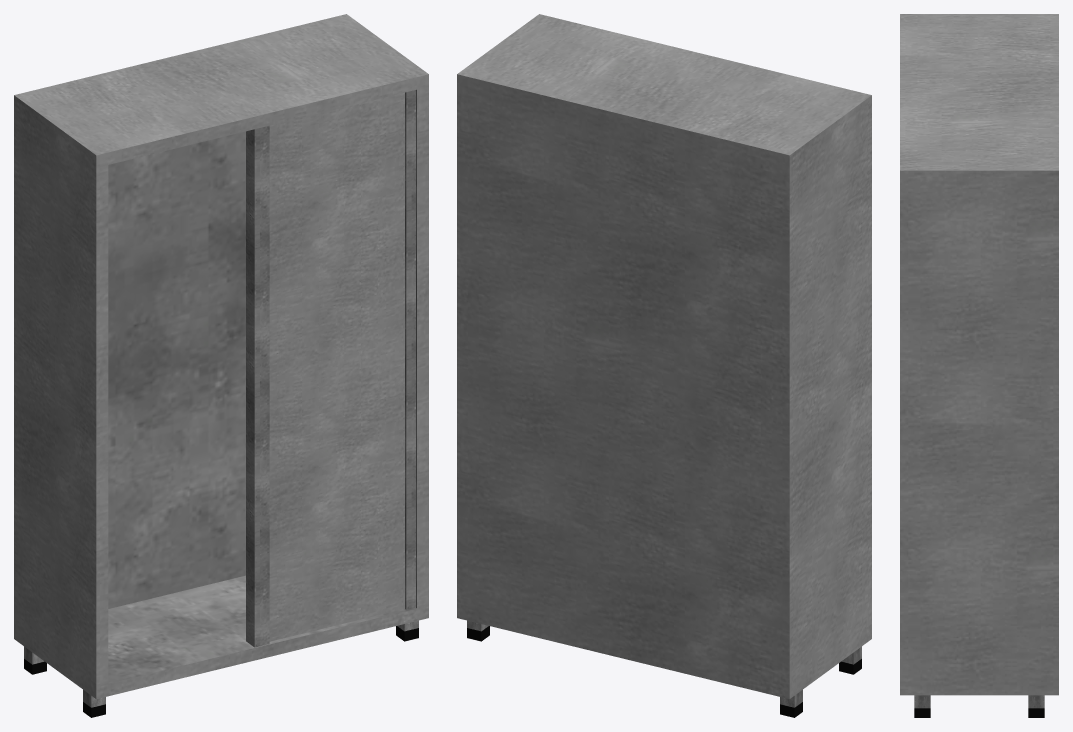
Rendered from closet.glb.
3 views of the same model, side by side, from view 1: azimuth 30°, elevation 25°; view 2: azimuth 150°, elevation 25°; view 3: azimuth 270°, elevation 25° (orthographic). The views are drawn at different scales.
Visible parts, largest first — view 1: closet2; view 2: closet2; view 3: closet2.
Boxes of the visible parts, x1,y1,x2,y2 form: closet2: [14, 14, 428, 717]; closet2: [457, 14, 871, 717]; closet2: [900, 14, 1058, 717].
Bounding box in the file's own units: 0.8688 × 1.42 × 0.3722.
Materials: 3 (2 with a texture image).
